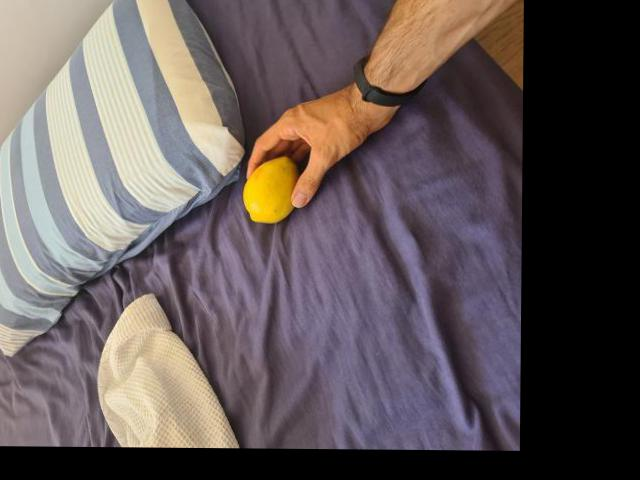lemon: (246, 149, 302, 219)
